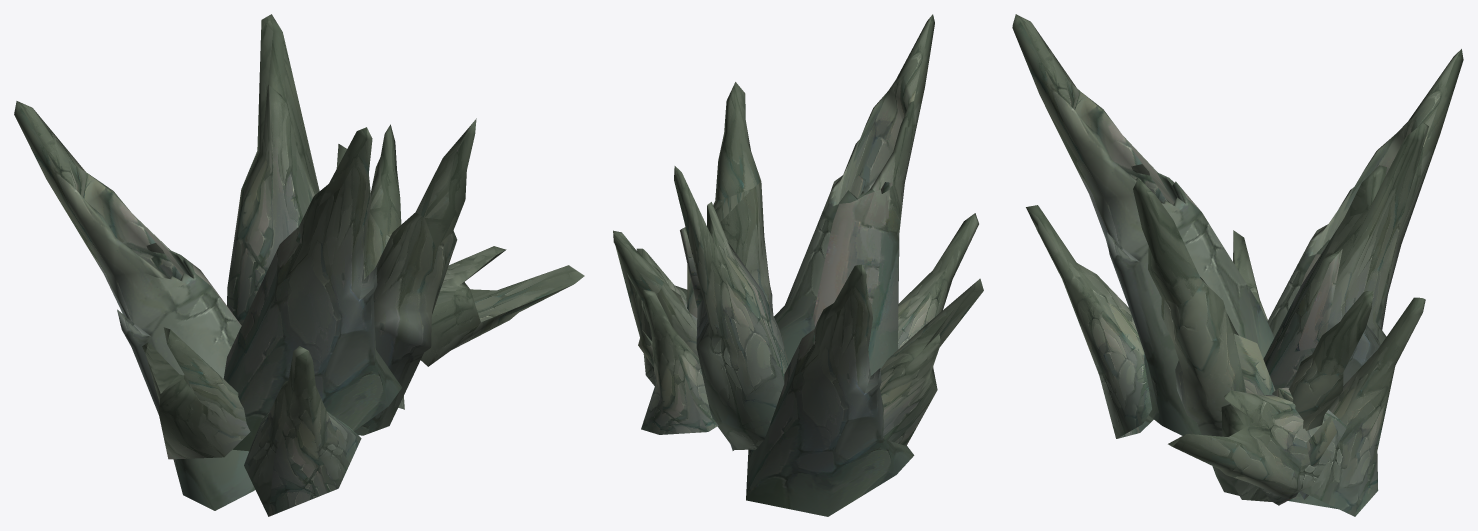
The model's file is DN_lv2_hsstone07.FBX.
The picture shows the model from 3 angles, left to right: view 1: azimuth 30°, elevation 25°; view 2: azimuth 150°, elevation 25°; view 3: azimuth 270°, elevation 25°; orthographic projection. The views are drawn at different scales.
Visible parts, largest first — view 1: DN_lv2_hsstone07; view 2: DN_lv2_hsstone07; view 3: DN_lv2_hsstone07.
Boxes of the visible parts, x1,y1,x2,y2 form: DN_lv2_hsstone07: [14, 14, 584, 516]; DN_lv2_hsstone07: [613, 14, 983, 516]; DN_lv2_hsstone07: [1012, 14, 1463, 516].
Size of the model in its own units: 1867 by 1912 by 1637.
